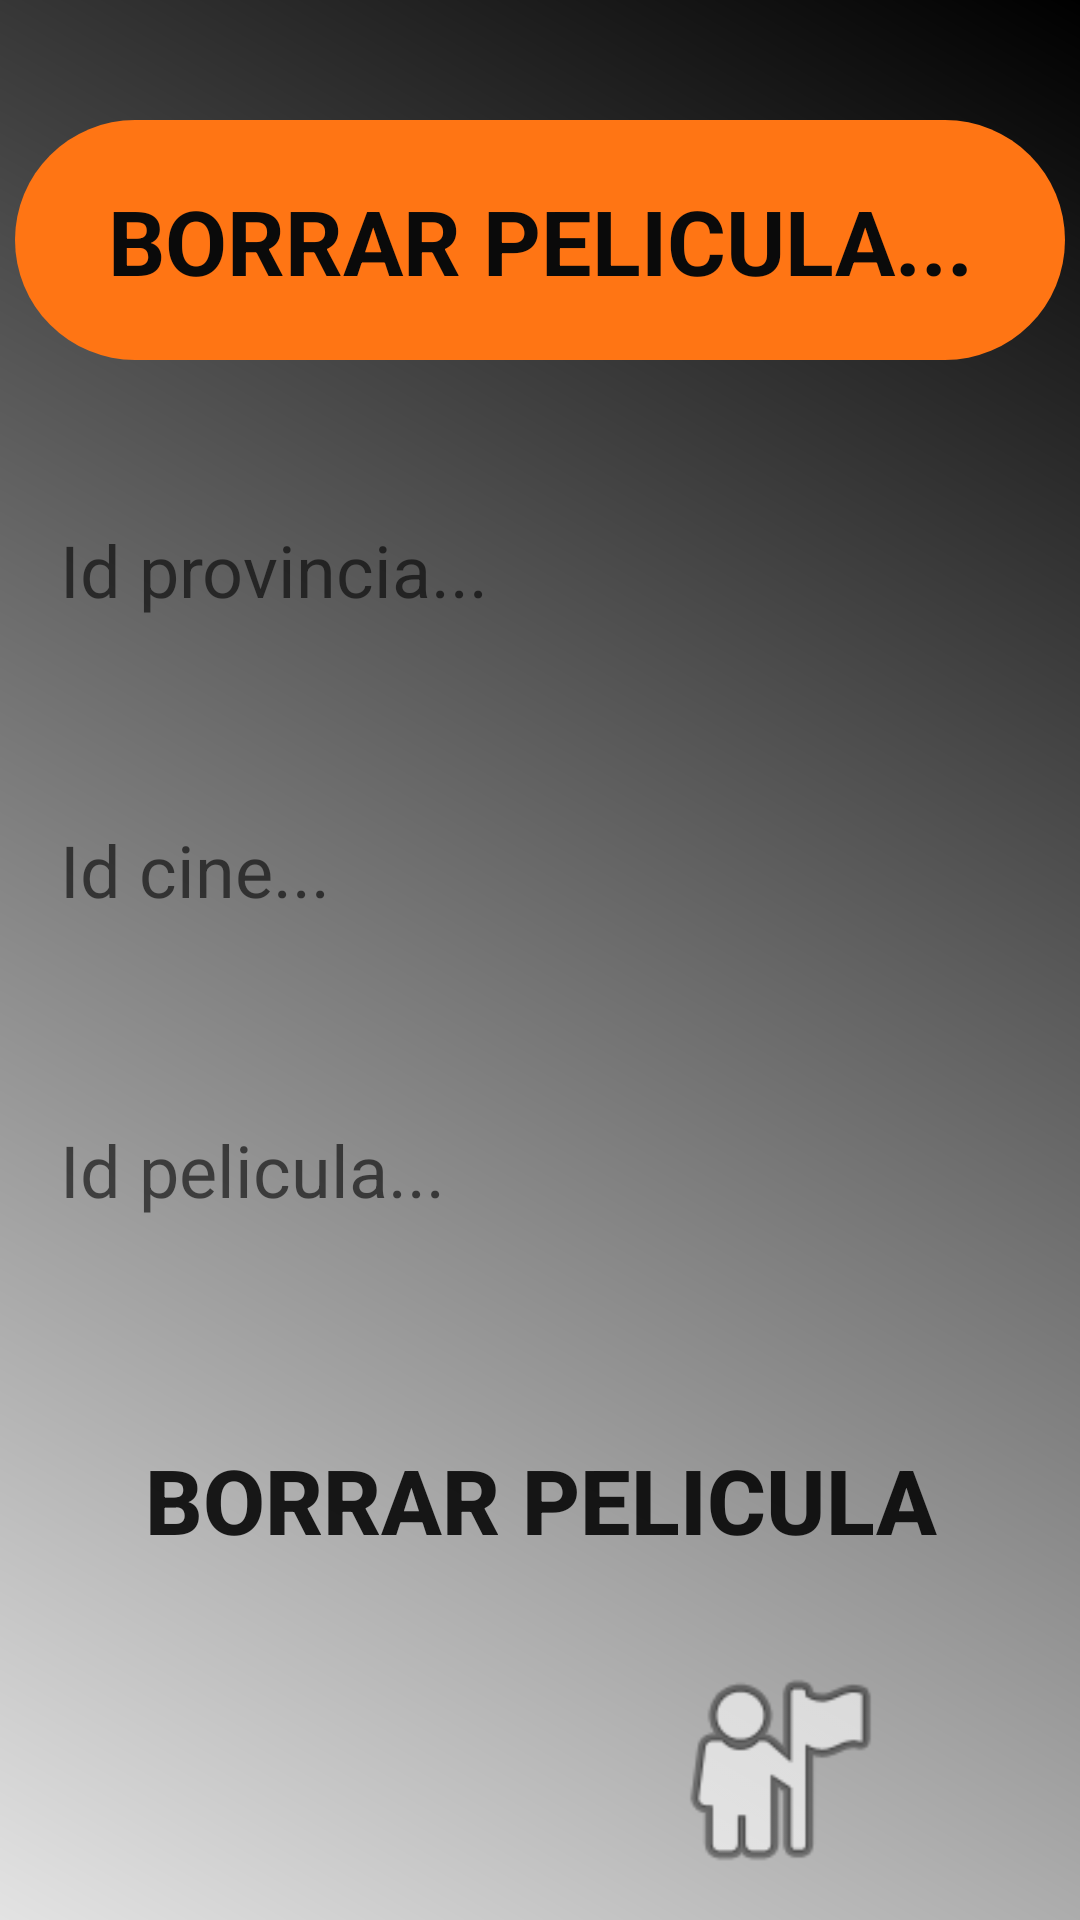

Locate icon controls on the screen. Image size 1080px×1920px, boxes as (x1, y1, x2, y2).
myplaces: (691, 1681, 871, 1858)
